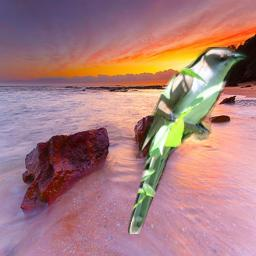Cuckoo: (128, 47, 250, 234)
